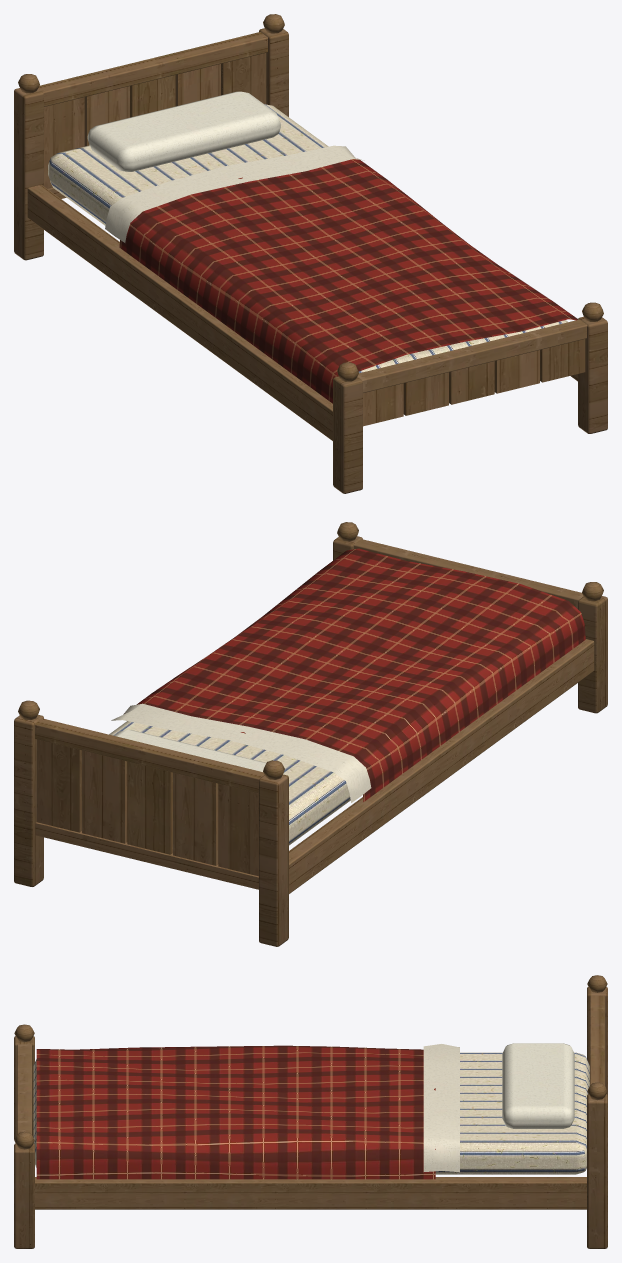
File: prop_bed.glb
3 renders of one model, top to bottom at view 1: azimuth 30°, elevation 25°; view 2: azimuth 150°, elevation 25°; view 3: azimuth 270°, elevation 25°, orthographic. The views are drawn at different scales.
Visible parts, largest first — view 1: prop; view 2: prop; view 3: prop.
Boxes of the visible parts, x1,y1,x2,y2 form: prop: (14,14,607,493); prop: (14,522,607,946); prop: (14,975,607,1248).
Size of what is drawn, in the model's own units: 0.91 by 0.592 by 1.96.
Materials: 4 (4 with a texture image).
